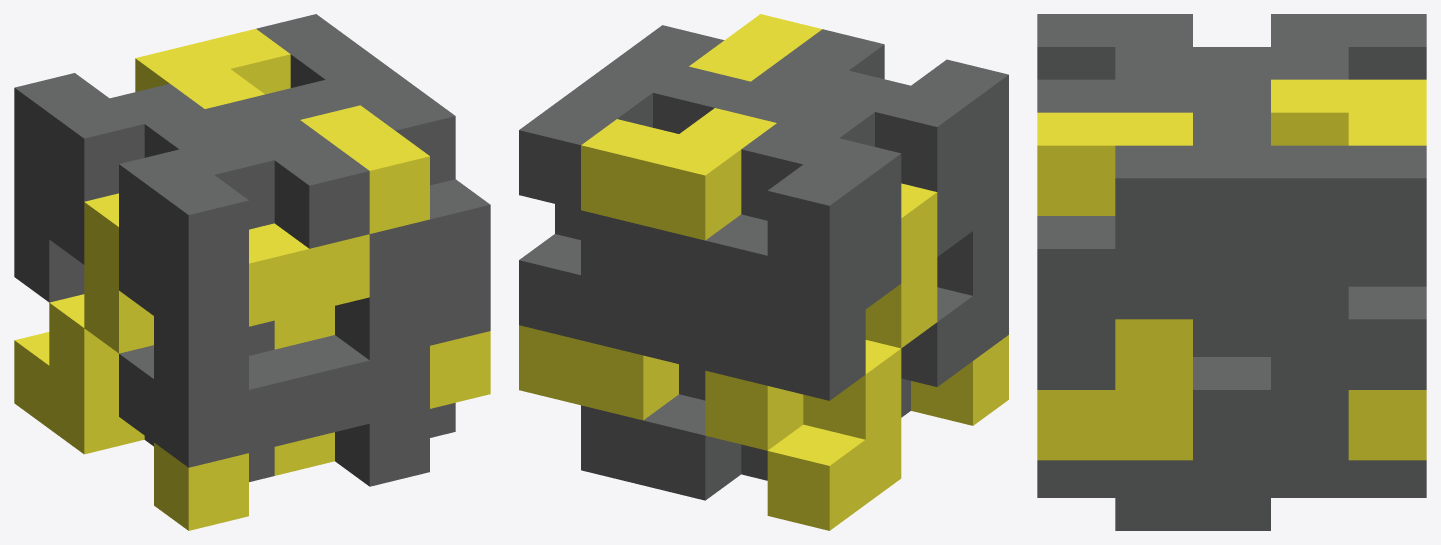
File: GoldOre.gltf
3 renders of one model, left to right at view 1: azimuth 30°, elevation 25°; view 2: azimuth 150°, elevation 25°; view 3: azimuth 270°, elevation 25°, orthographic. The views are drawn at different scales.
Visible parts, largest first — view 1: Layer.1; view 2: Layer.1; view 3: Layer.1.
Part boxes in pixels (box(x1,y1,x2,y2)): Layer.1: box(14, 14, 490, 530); Layer.1: box(519, 14, 1008, 530); Layer.1: box(1037, 14, 1426, 530).
Size of the model in its own units: 5 by 5 by 5.
Materials: 1 (1 with a texture image).
